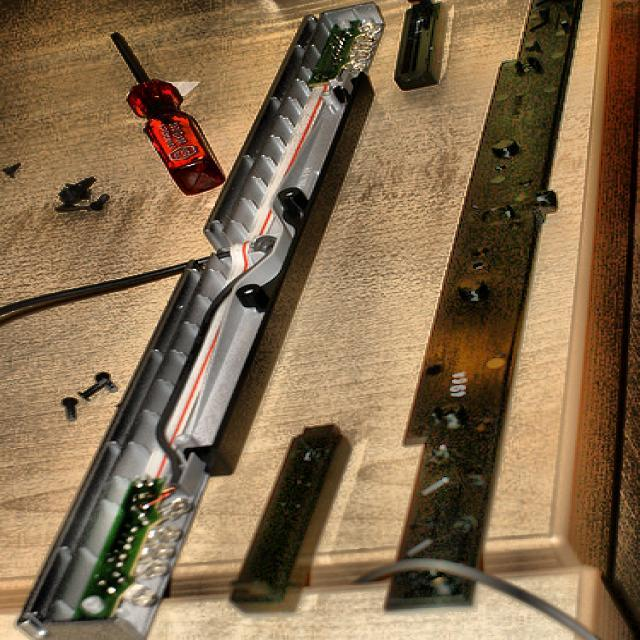screwdriver: (112, 31, 224, 196)
